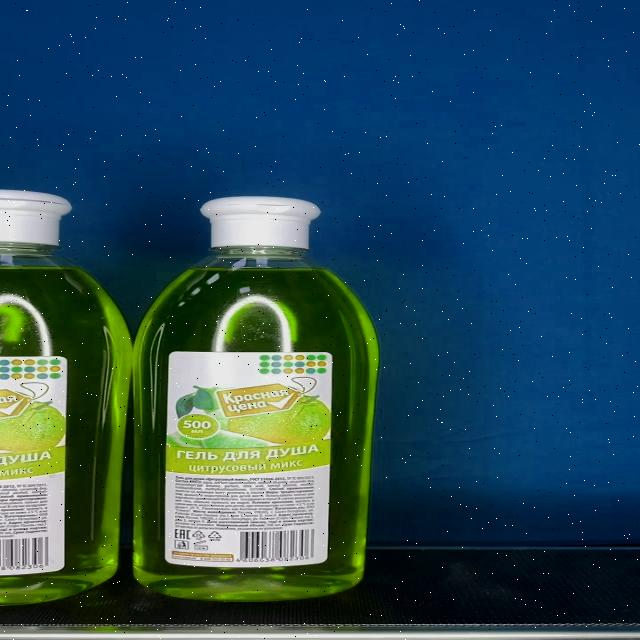Bottle: (130, 196, 380, 603)
Cap: (200, 197, 320, 249)
